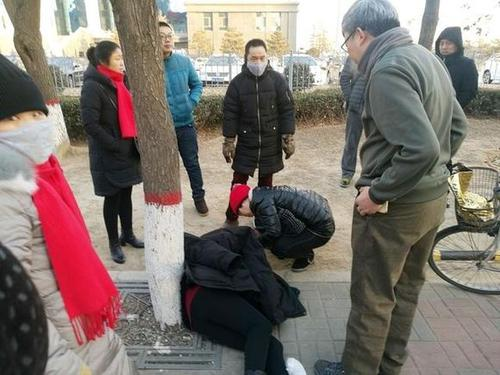fall: (169, 220, 319, 375)
